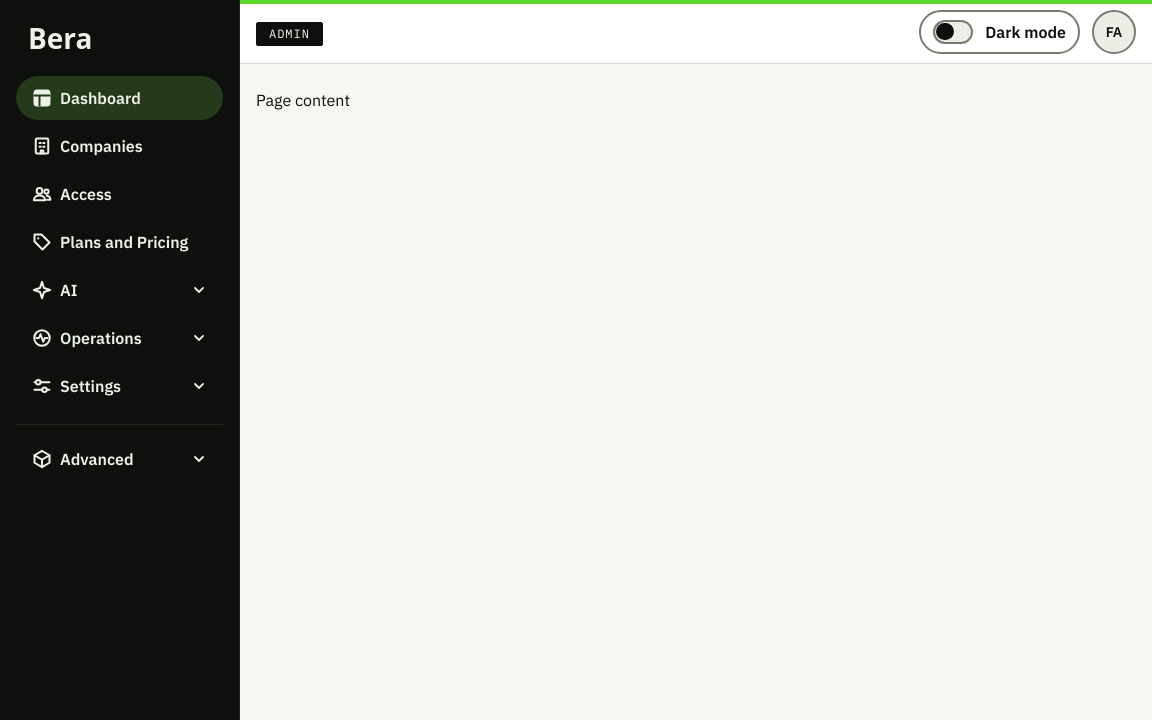
Test: sub-menus › Settings opens with its pages and closes on click
Click the button "Settings": {"x": 120, "y": 386} [16,364,223,408]
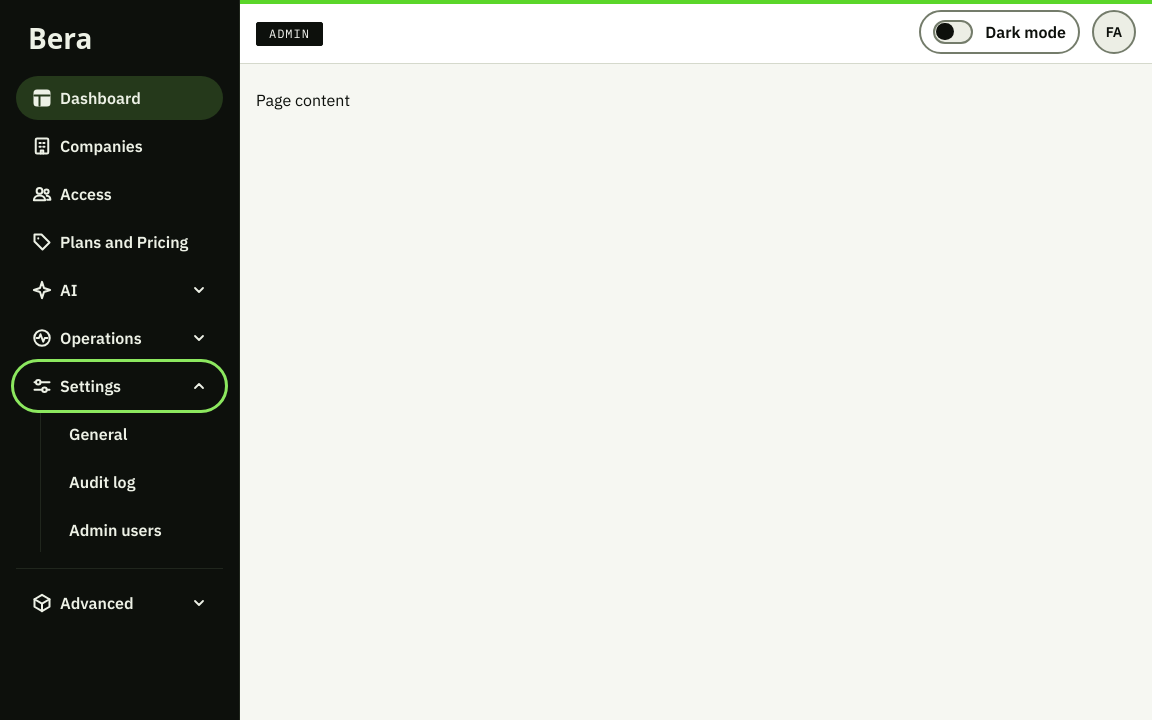
Result: the button "Settings" is expanded
Click the button "Settings": {"x": 120, "y": 386} [16,364,223,408]
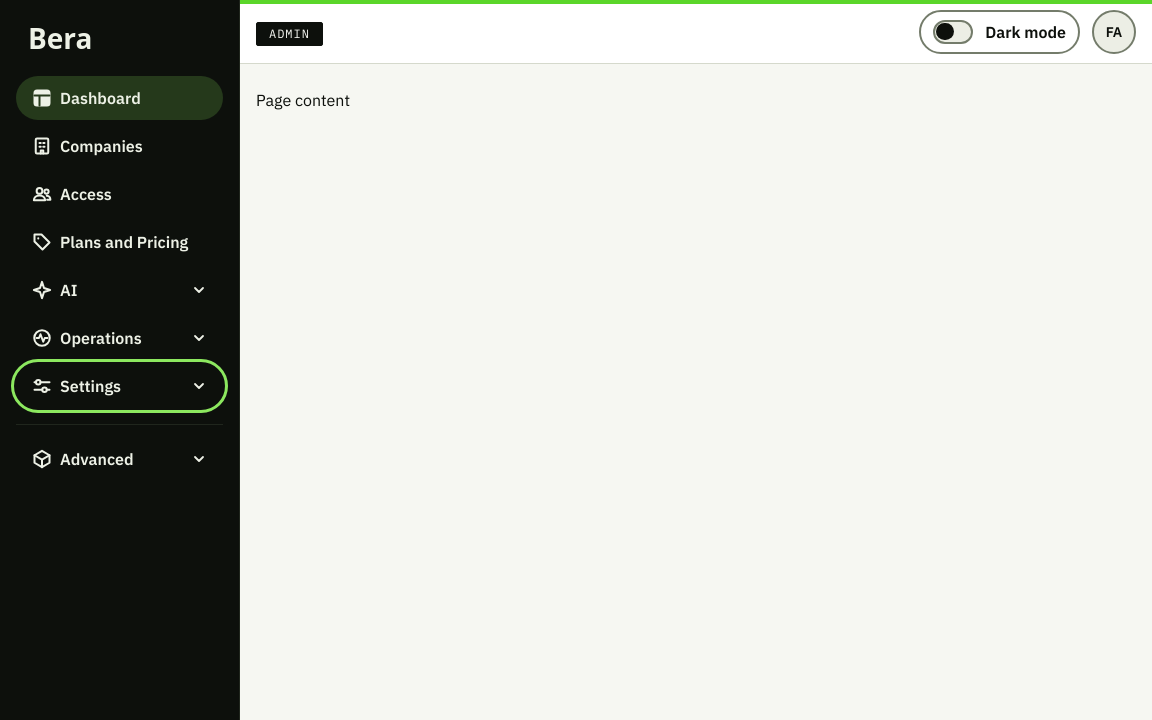
Result: the link "General" is gone
